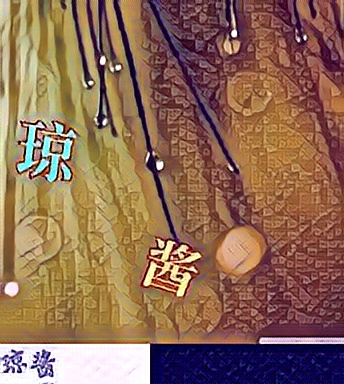BDB4: (138, 232, 202, 298)
C7ED: (13, 116, 77, 182)
